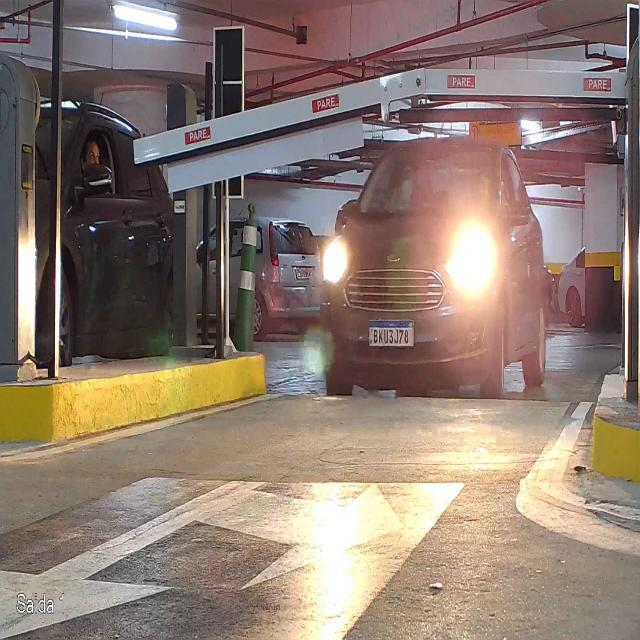mercosul_plate: (367, 318, 416, 348)
